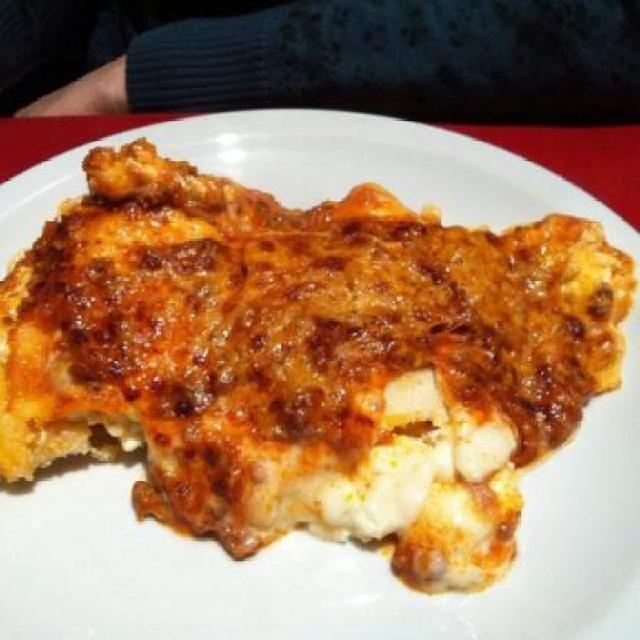Lasagna: (32, 148, 600, 542)
